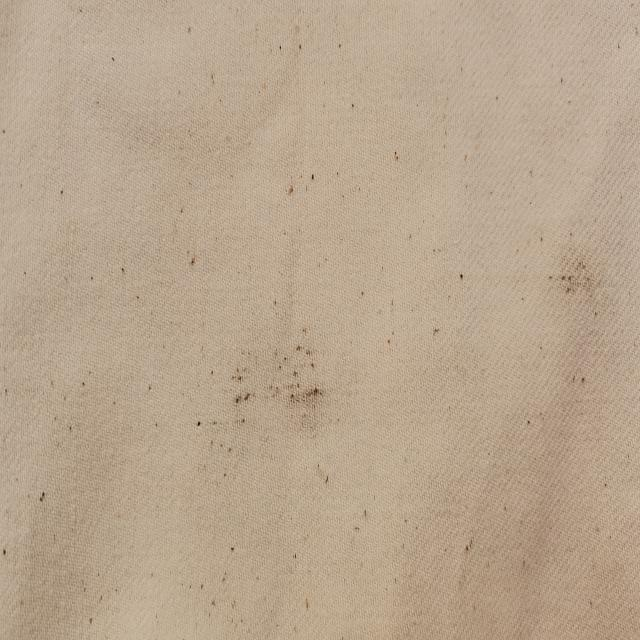taaaches: (222, 330, 336, 461), (550, 236, 598, 325)
